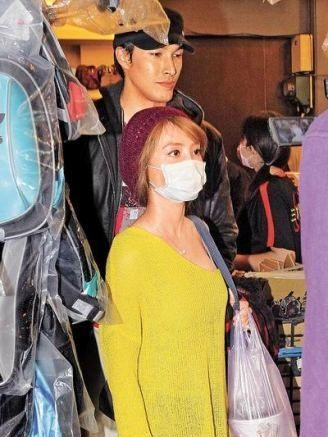face: (131, 28, 182, 100)
face_mask: (154, 124, 206, 202), (237, 132, 254, 166)
